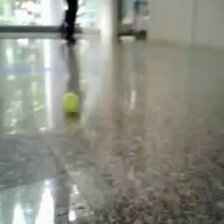tennis: (62, 92, 79, 113)
